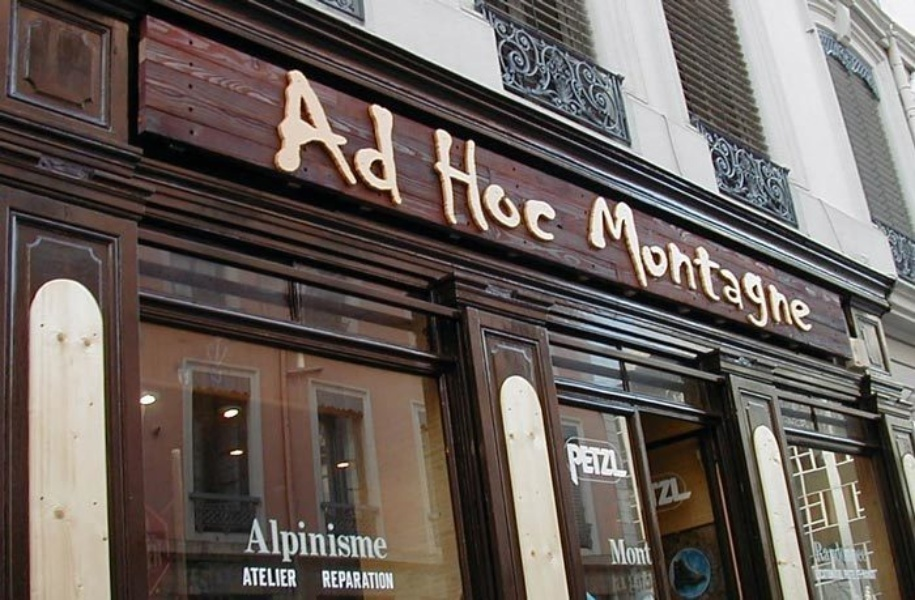text: (593, 185, 608, 347), (609, 185, 624, 347), (625, 185, 640, 347), (641, 185, 656, 347), (657, 185, 672, 347), (673, 185, 688, 347), (689, 185, 704, 347), (705, 185, 720, 347), (721, 185, 736, 347), (737, 185, 752, 347), (753, 185, 768, 347), (769, 185, 784, 347), (785, 185, 800, 347), (801, 185, 814, 347), (289, 68, 304, 207), (305, 68, 320, 207), (321, 68, 336, 207), (337, 68, 352, 207), (353, 68, 368, 207), (369, 68, 384, 207), (385, 68, 400, 207), (433, 125, 448, 245), (449, 125, 464, 245), (465, 125, 480, 245), (481, 125, 496, 245), (497, 125, 512, 245), (513, 125, 528, 245), (529, 125, 544, 245), (545, 125, 559, 245), (257, 516, 272, 565), (273, 516, 288, 565), (289, 516, 304, 565), (305, 516, 320, 565), (321, 516, 336, 565), (337, 516, 352, 565), (353, 516, 368, 565), (369, 516, 384, 565), (577, 444, 592, 485), (593, 444, 608, 485), (609, 444, 624, 485), (657, 472, 672, 508), (673, 472, 688, 508), (589, 185, 592, 347), (566, 444, 576, 485), (609, 538, 624, 565), (625, 538, 640, 565), (817, 540, 832, 563), (833, 540, 848, 563), (849, 540, 864, 563), (641, 538, 653, 565), (321, 569, 336, 590), (337, 569, 352, 590), (353, 569, 368, 590), (369, 569, 384, 590), (257, 567, 272, 587), (273, 567, 288, 587), (625, 573, 640, 593), (242, 567, 256, 587), (147, 544, 160, 565), (385, 516, 390, 565), (612, 573, 624, 593), (641, 573, 653, 593), (385, 569, 394, 590), (817, 569, 832, 581), (833, 569, 848, 581), (849, 569, 864, 581), (289, 567, 297, 587), (865, 569, 878, 581), (253, 516, 256, 565), (287, 68, 288, 207), (401, 68, 402, 207), (625, 444, 628, 485), (431, 125, 432, 245), (865, 540, 870, 563), (653, 472, 656, 508), (689, 472, 692, 508), (814, 540, 816, 563), (607, 538, 608, 565), (815, 569, 816, 581)
